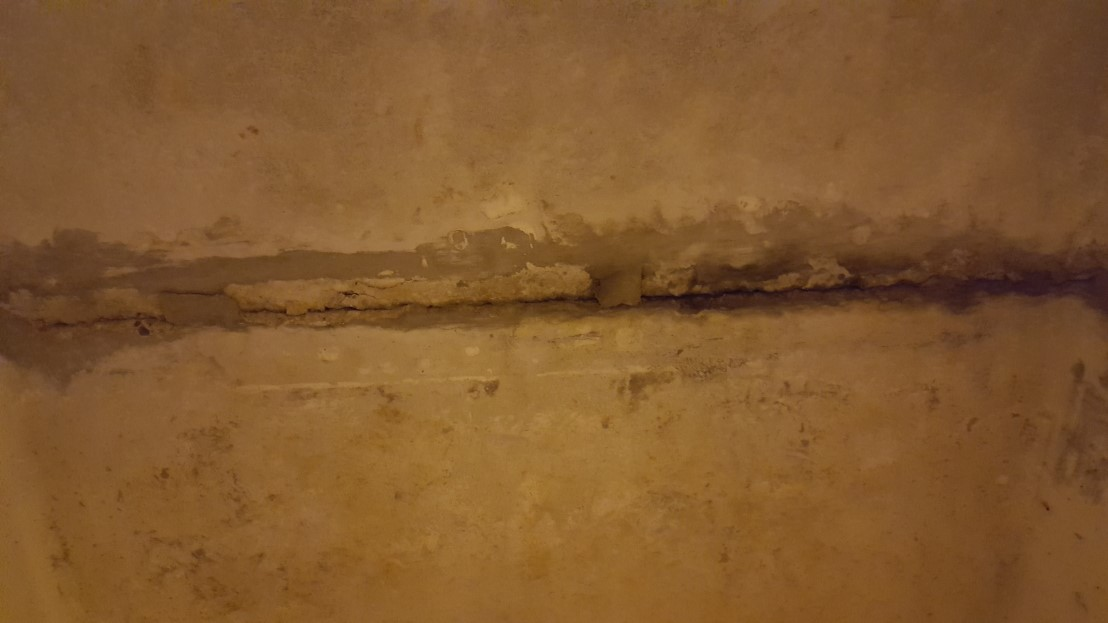Crack: (0, 229, 1108, 371)
